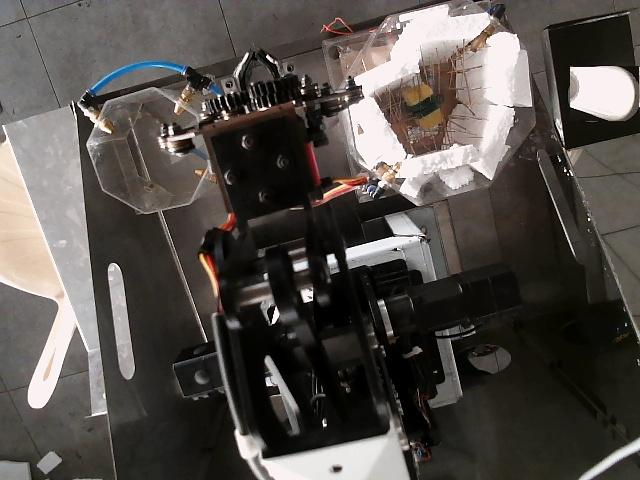cup: (570, 66, 639, 121)
